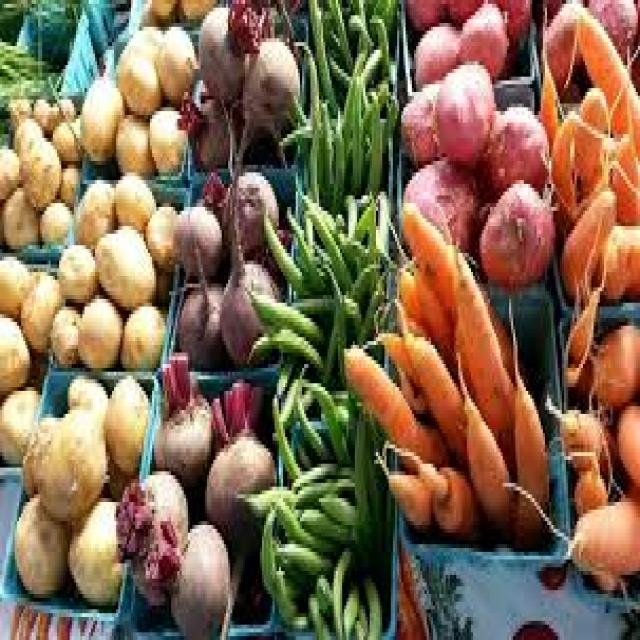organic waste: (399, 199, 511, 372), (450, 230, 511, 467), (340, 337, 446, 464), (200, 375, 276, 529), (217, 176, 281, 356), (144, 514, 228, 636), (397, 310, 465, 460), (114, 464, 186, 602), (454, 349, 509, 529), (505, 314, 547, 540), (382, 437, 478, 533), (570, 8, 638, 142), (402, 146, 479, 260), (232, 34, 300, 161), (30, 406, 104, 521), (478, 176, 552, 288), (152, 349, 213, 479), (560, 479, 638, 579), (194, 0, 260, 100), (202, 161, 276, 249), (64, 490, 120, 606), (558, 184, 614, 299), (482, 100, 547, 199), (433, 57, 492, 165), (175, 238, 224, 364), (367, 329, 429, 422), (397, 261, 452, 364), (10, 494, 66, 594), (547, 104, 591, 226), (93, 218, 154, 306), (171, 172, 222, 276), (545, 391, 608, 471), (612, 42, 638, 226), (374, 444, 429, 529), (245, 284, 321, 341), (76, 69, 123, 161), (0, 34, 57, 108), (589, 318, 638, 402), (454, 0, 507, 77), (572, 80, 608, 192), (104, 372, 146, 468), (178, 88, 230, 165), (302, 195, 344, 288), (114, 23, 158, 111), (541, 0, 581, 96), (302, 376, 349, 456), (369, 422, 386, 624), (400, 80, 440, 165), (17, 130, 61, 207), (74, 287, 118, 364), (274, 494, 332, 552), (288, 372, 328, 456), (283, 200, 321, 288), (600, 218, 638, 303), (154, 23, 194, 103), (262, 210, 304, 284), (0, 379, 40, 456), (19, 268, 57, 349), (412, 15, 456, 84), (564, 448, 608, 514), (352, 406, 370, 567), (587, 0, 637, 57), (118, 299, 163, 360), (562, 280, 598, 356), (296, 38, 314, 188), (268, 387, 296, 483), (268, 368, 308, 433), (146, 100, 184, 168), (325, 540, 351, 636), (247, 318, 306, 360), (0, 184, 38, 249), (112, 169, 154, 226), (610, 398, 638, 483), (234, 483, 296, 521), (296, 502, 352, 544), (0, 310, 27, 394), (57, 241, 95, 299), (74, 176, 112, 234), (114, 108, 148, 172), (270, 322, 321, 364), (272, 533, 328, 571), (289, 291, 357, 322), (268, 556, 298, 624), (308, 0, 329, 96), (329, 0, 354, 80), (144, 200, 173, 268), (348, 72, 364, 192), (272, 533, 328, 567), (323, 264, 340, 376), (363, 84, 380, 188), (312, 0, 330, 96), (64, 372, 105, 414), (316, 96, 332, 195), (289, 452, 340, 483), (260, 498, 277, 590), (313, 200, 347, 246), (0, 249, 25, 310), (312, 487, 352, 525), (363, 265, 382, 341), (49, 303, 76, 356), (36, 192, 67, 238), (488, 0, 528, 34), (304, 586, 330, 636), (540, 61, 556, 142), (359, 571, 378, 636), (346, 188, 369, 241), (281, 119, 342, 138), (51, 119, 78, 161), (330, 103, 344, 184), (298, 192, 310, 284), (324, 34, 346, 84), (340, 575, 357, 636), (55, 157, 76, 203), (357, 42, 378, 88), (0, 142, 17, 195), (101, 460, 127, 494), (346, 253, 378, 280), (564, 353, 589, 387), (369, 12, 386, 62), (28, 92, 48, 134), (0, 95, 27, 126), (404, 0, 439, 23), (274, 352, 294, 391), (442, 0, 482, 19), (348, 46, 366, 88), (314, 567, 330, 613), (361, 188, 372, 253), (178, 0, 214, 19), (314, 472, 350, 491), (50, 92, 70, 126), (348, 8, 369, 38), (144, 0, 175, 19), (283, 563, 302, 594), (152, 261, 169, 295), (290, 606, 306, 628), (353, 610, 365, 636)
